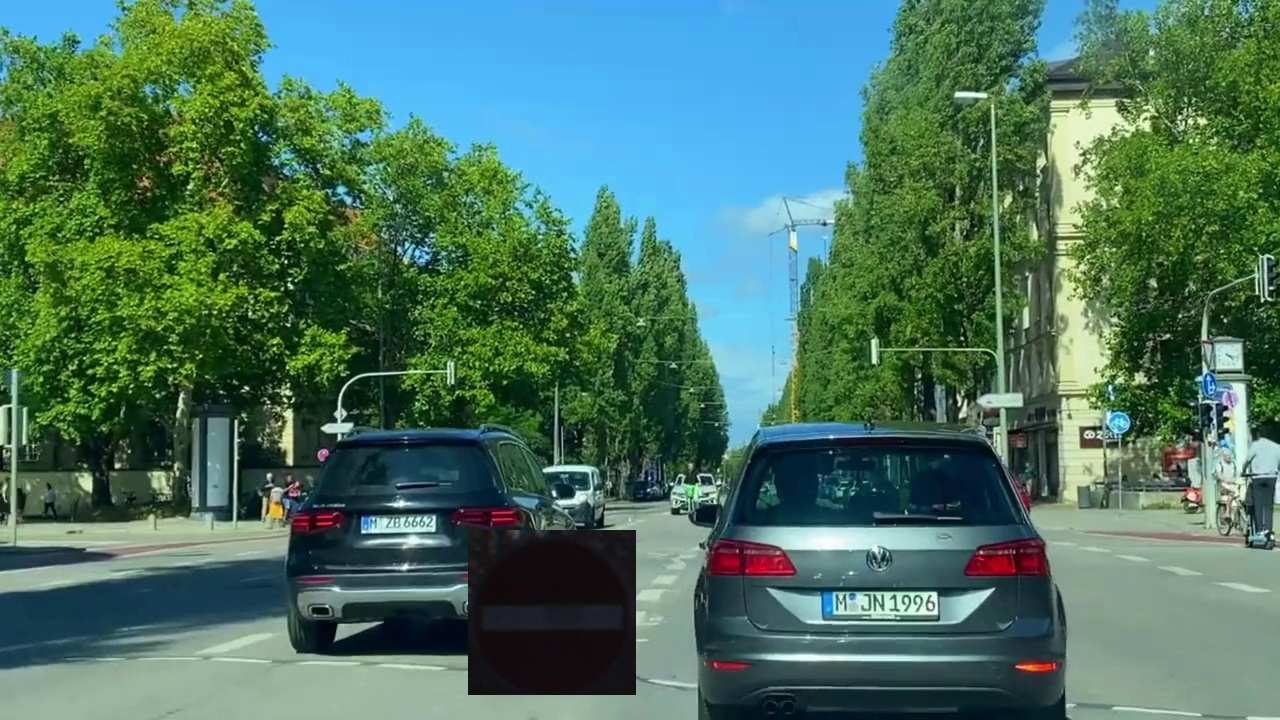No entry: (468, 530, 636, 695)
